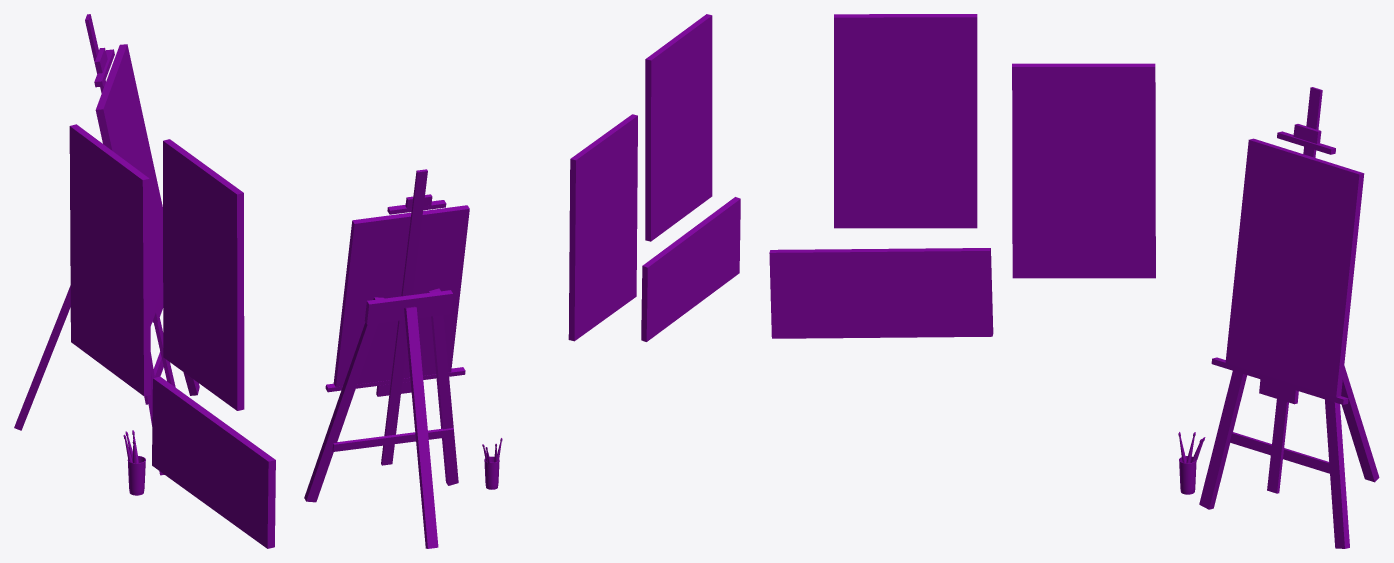
File: UV Set 9 (Easel and canvases) UPDATED.fbx
3 views of the same model, side by side, from view 1: azimuth 30°, elevation 25°; view 2: azimuth 150°, elevation 25°; view 3: azimuth 270°, elevation 25° (orthographic). The views are drawn at different scales.
Visible parts, largest first — view 1: Canvas1, Canvas, Canvas2, Canvas_on_easel, Easel1, Glass_Cylinder; view 2: Easel1, Canvas_on_easel, Canvas, Canvas1, Canvas2; view 3: Canvas, Canvas1, Canvas_on_easel, Canvas2, Easel1.
Part boxes in pixels (x1,y1,x2,y2): Canvas1: [163, 139, 244, 410]; Canvas: [69, 124, 150, 396]; Canvas2: [152, 376, 275, 548]; Canvas_on_easel: [95, 44, 163, 318]; Easel1: [14, 14, 199, 475]; Glass_Cylinder: [127, 456, 145, 495]; Easel1: [304, 169, 465, 548]; Canvas_on_easel: [333, 205, 469, 387]; Canvas: [568, 114, 637, 341]; Canvas1: [645, 14, 712, 241]; Canvas2: [641, 197, 740, 341]; Canvas: [1012, 63, 1155, 278]; Canvas1: [834, 14, 977, 228]; Canvas_on_easel: [1225, 138, 1364, 397]; Canvas2: [769, 248, 993, 338]; Easel1: [1199, 87, 1379, 548].
Bounding box in the file's own units: 125 × 236 × 298.
